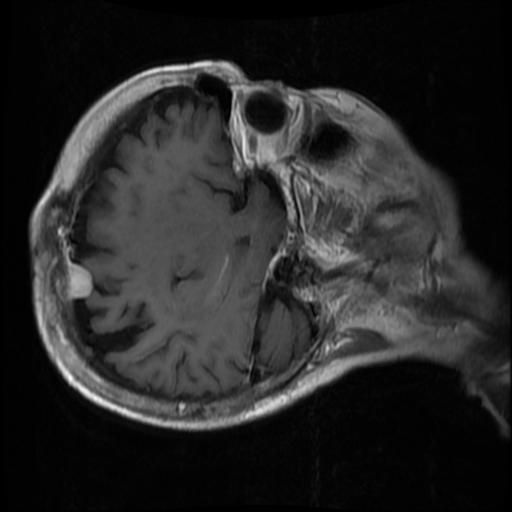meningioma: (65, 264, 92, 300)
